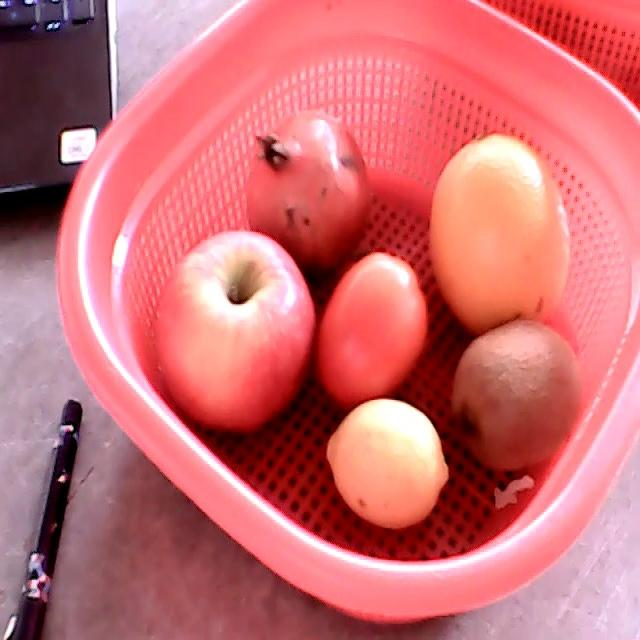apple: (155, 231, 316, 435)
kiwi: (445, 320, 580, 472)
lemon: (327, 399, 449, 527)
orange: (430, 132, 569, 335)
pomegranate: (245, 108, 370, 268)
tomato: (316, 252, 430, 404)
